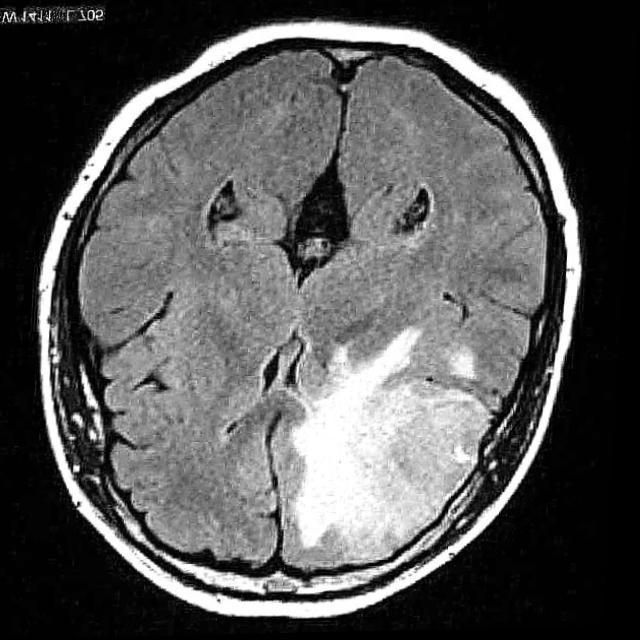Tumor: (296, 332, 500, 563)
